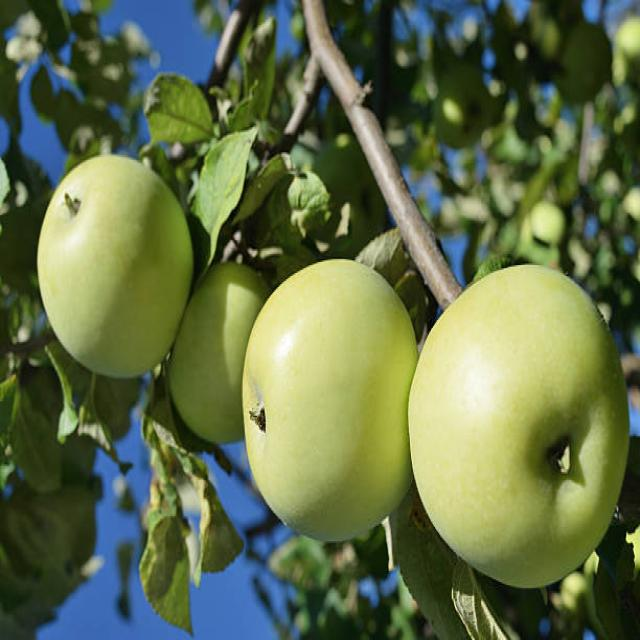Unripe: (408, 262, 631, 592), (239, 256, 419, 546), (40, 152, 192, 379)
